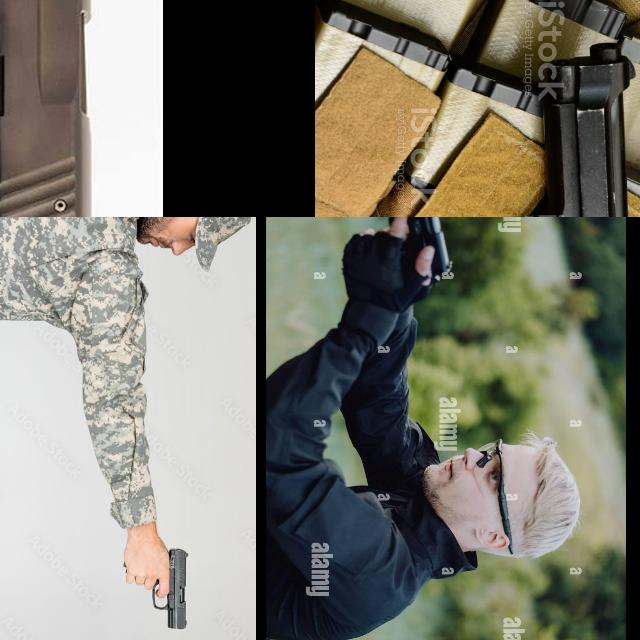handgun: (358, 37, 640, 217), (0, 0, 190, 217), (373, 217, 452, 289), (149, 546, 189, 634)
